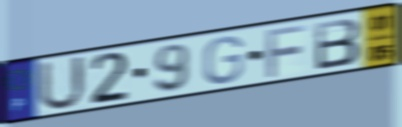2: (89, 51, 131, 107)
9: (152, 41, 191, 95)
B: (312, 16, 362, 72)
F: (264, 22, 310, 79)
G: (202, 35, 246, 86)
U: (36, 54, 89, 113)
